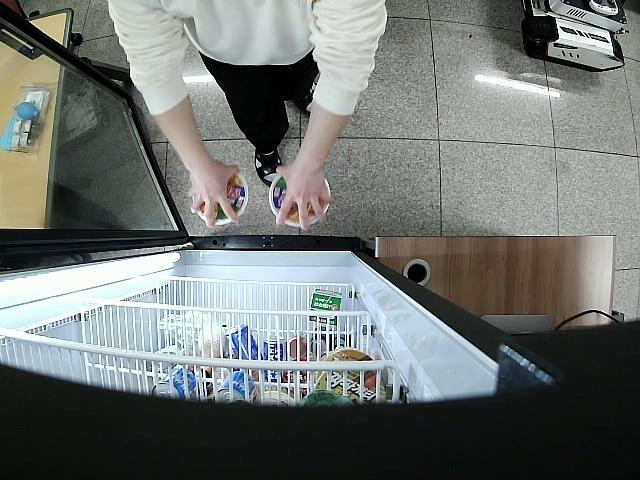09_yukGaeJang: (269, 178, 332, 228), (190, 175, 248, 226)
